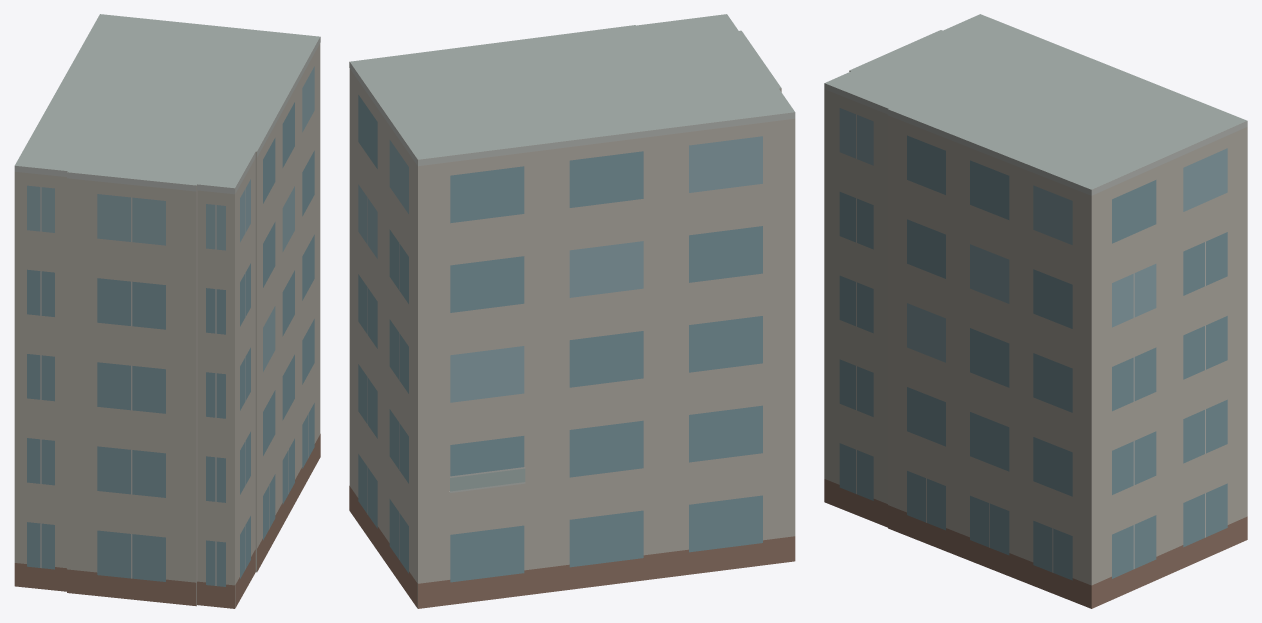
The model's file is survey-upis-32881486.glb.
3 views of the same model, side by side, from view 1: azimuth 30°, elevation 25°; view 2: azimuth 150°, elevation 25°; view 3: azimuth 270°, elevation 25° (orthographic). The views are drawn at different scales.
Visible parts, largest first — view 1: survey-upis-32881486.tmp; view 2: survey-upis-32881486.tmp; view 3: survey-upis-32881486.tmp.
Part boxes in pixels (bbox=[...]): survey-upis-32881486.tmp: bbox=[14, 14, 320, 608]; survey-upis-32881486.tmp: bbox=[349, 14, 795, 608]; survey-upis-32881486.tmp: bbox=[824, 14, 1247, 608].
Size of the model in its own units: 15.3 by 17 by 15.56.
